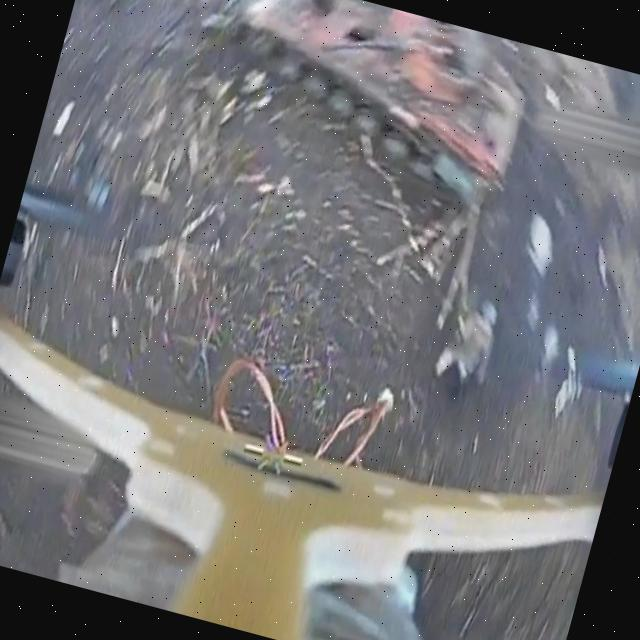Destroyed: (211, 1, 548, 217)
